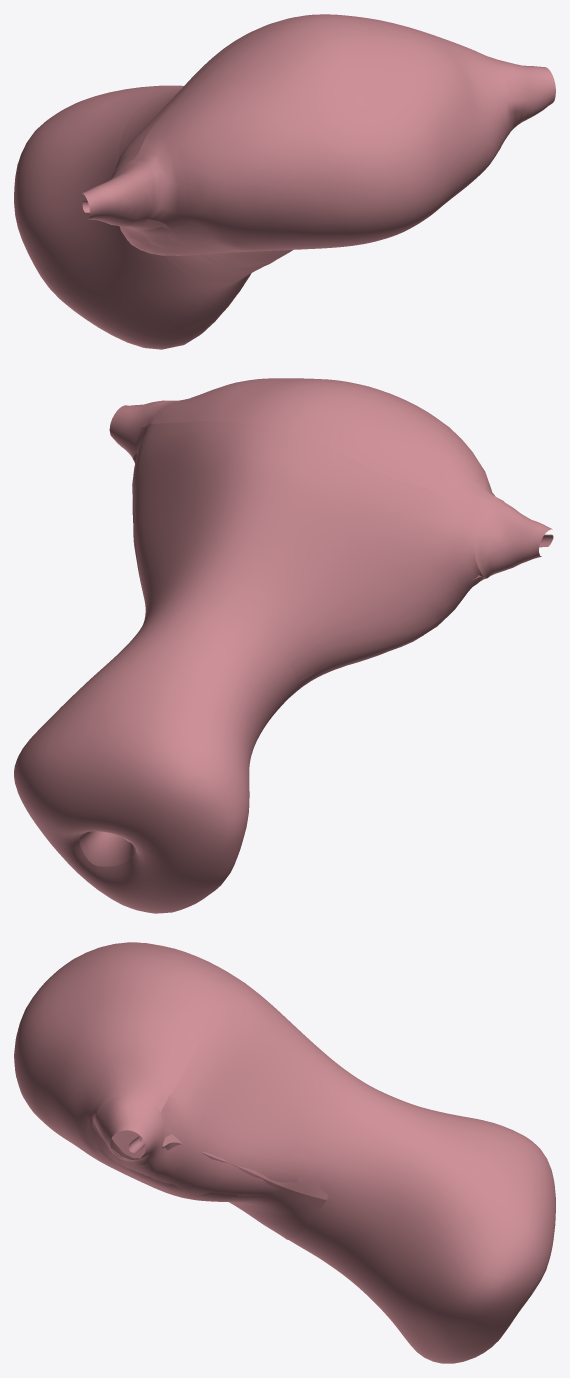
File: uterus.glb
The picture shows the model from 3 angles, top to bottom: view 1: azimuth 30°, elevation 25°; view 2: azimuth 150°, elevation 25°; view 3: azimuth 270°, elevation 25°; orthographic projection. The views are drawn at different scales.
Parts seen in each view (by area): view 1: VH_F_fundus_of_uterus, VH_F_cervix, VH_F_cornua, VH_F_posterior_wall_of_uterus, VH_F_lower_uterine_segment, VH_F_body_of_uterus; view 2: VH_F_body_of_uterus, VH_F_cervix, VH_F_fundus_of_uterus, VH_F_lower_uterine_segment, VH_F_cornua, VH_F_external_cervical_os; view 3: VH_F_cervix, VH_F_body_of_uterus, VH_F_fundus_of_uterus, VH_F_lower_uterine_segment, VH_F_posterior_wall_of_uterus, VH_F_cornua, VH_F_anterior_wall_of_uterus.
Boxes of the visible parts, box(x1,y1,x2,y2) form: VH_F_fundus_of_uterus: box(132, 14, 516, 248); VH_F_cervix: box(14, 85, 251, 349); VH_F_cornua: box(82, 58, 555, 227); VH_F_posterior_wall_of_uterus: box(140, 147, 500, 269); VH_F_lower_uterine_segment: box(119, 87, 262, 285); VH_F_body_of_uterus: box(114, 18, 511, 268); VH_F_body_of_uterus: box(132, 421, 486, 694); VH_F_cervix: box(14, 642, 261, 913); VH_F_fundus_of_uterus: box(142, 378, 495, 513); VH_F_lower_uterine_segment: box(124, 600, 296, 737); VH_F_cornua: box(109, 400, 552, 578); VH_F_external_cervical_os: box(79, 831, 136, 866); VH_F_cervix: box(332, 1106, 555, 1363); VH_F_body_of_uterus: box(112, 962, 366, 1213); VH_F_fundus_of_uterus: box(14, 942, 217, 1163); VH_F_lower_uterine_segment: box(289, 1083, 419, 1266); VH_F_posterior_wall_of_uterus: box(40, 1119, 326, 1239); VH_F_cornua: box(95, 942, 164, 1164); VH_F_anterior_wall_of_uterus: box(162, 1134, 328, 1199).
Size of the model in its own units: 0.0525 by 0.047 by 0.0587.
